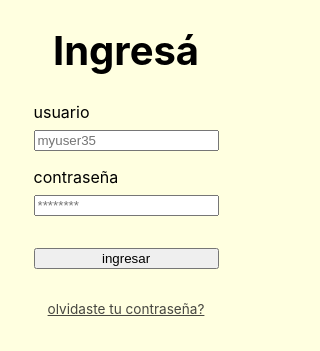
Login Form › user and pass input length min, and regular expressions
The width and height of the screenshot is (320, 351).
Type "bad" into the field named "usuario" at (126,140), box [34,130,218,151]
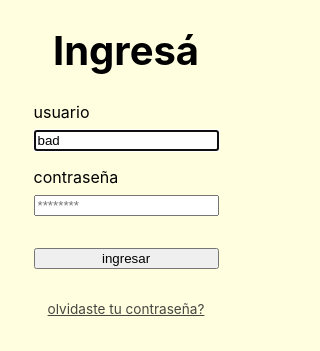
Type "123" into the password field named "contraseña" at (126,205), box [34,195,218,216]
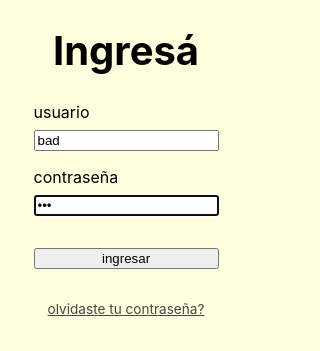
Click the button "ingresar" at (126,258), box [34,248,218,269]
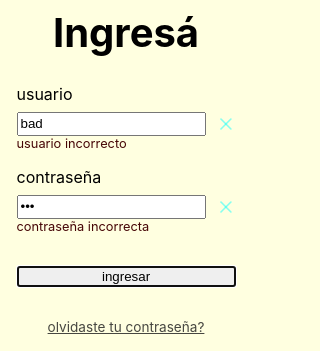
Expected: the text "usuario incorrecto" is shown, [16,136,127,151]
Expected: the text "contraseña incorrecta" is shown, [16,219,149,234]
Expected: the 1st icon with test id "error-icon" is shown, [206,112,236,136]
// correcting credentials
Type "good_user" into the field named "usuario" at (111,124), box [16,112,206,136]
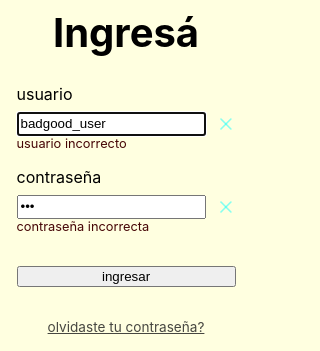
Type "G00dP4ssw#rd" into the password field named "contraseña" at (111,207), box [16,195,206,219]
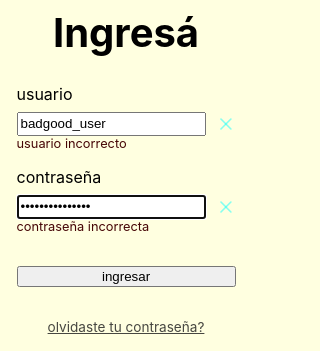
Click the button "ingresar" at (126,276), box [16,266,236,287]
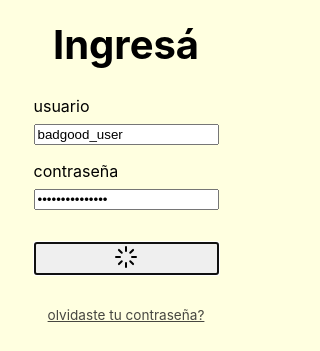
Expected: the icon with test id "loading-icon" is shown, [114,245,138,269]
